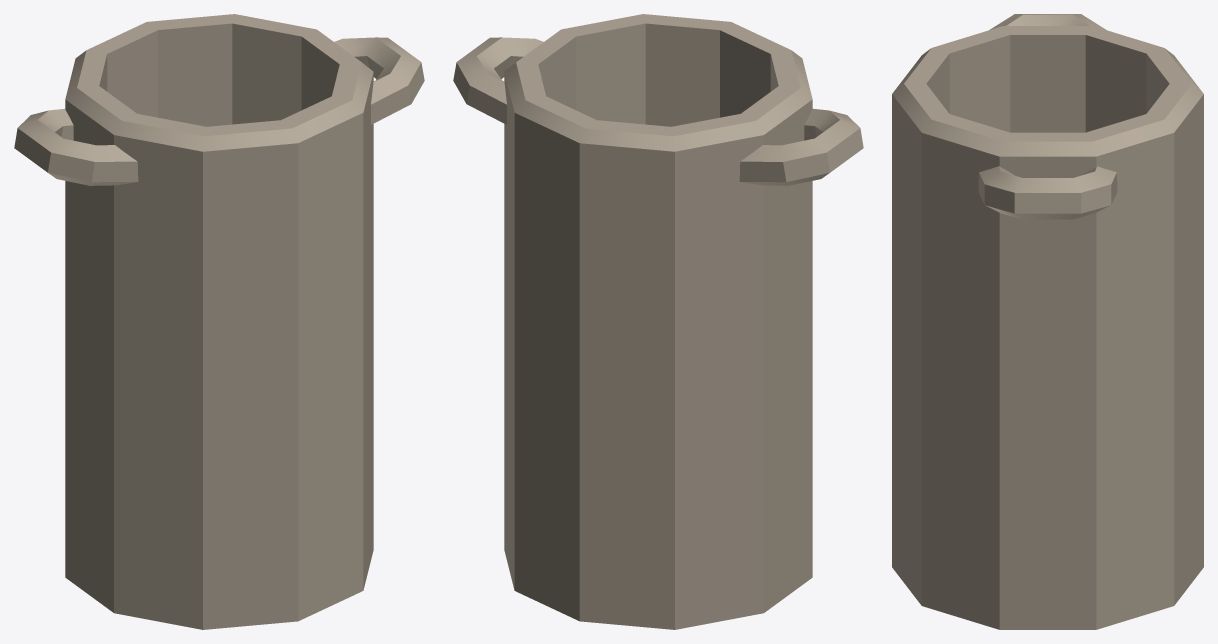
The model's file is EA_Items_House_cauldron_01a.glb.
3 views of the same model, side by side, from view 1: azimuth 30°, elevation 25°; view 2: azimuth 150°, elevation 25°; view 3: azimuth 270°, elevation 25° (orthographic).
Visible parts, largest first — view 1: EA_Items_House_cauldron_01a; view 2: EA_Items_House_cauldron_01a; view 3: EA_Items_House_cauldron_01a.
Boxes of the visible parts, left/top/right/bottom form: EA_Items_House_cauldron_01a: left=14, top=14, right=424, bottom=629; EA_Items_House_cauldron_01a: left=453, top=14, right=863, bottom=629; EA_Items_House_cauldron_01a: left=892, top=14, right=1203, bottom=629.
Bounding box in the file's own units: 0.39 × 0.4831 × 0.2825.
1 material, 1 textured.
